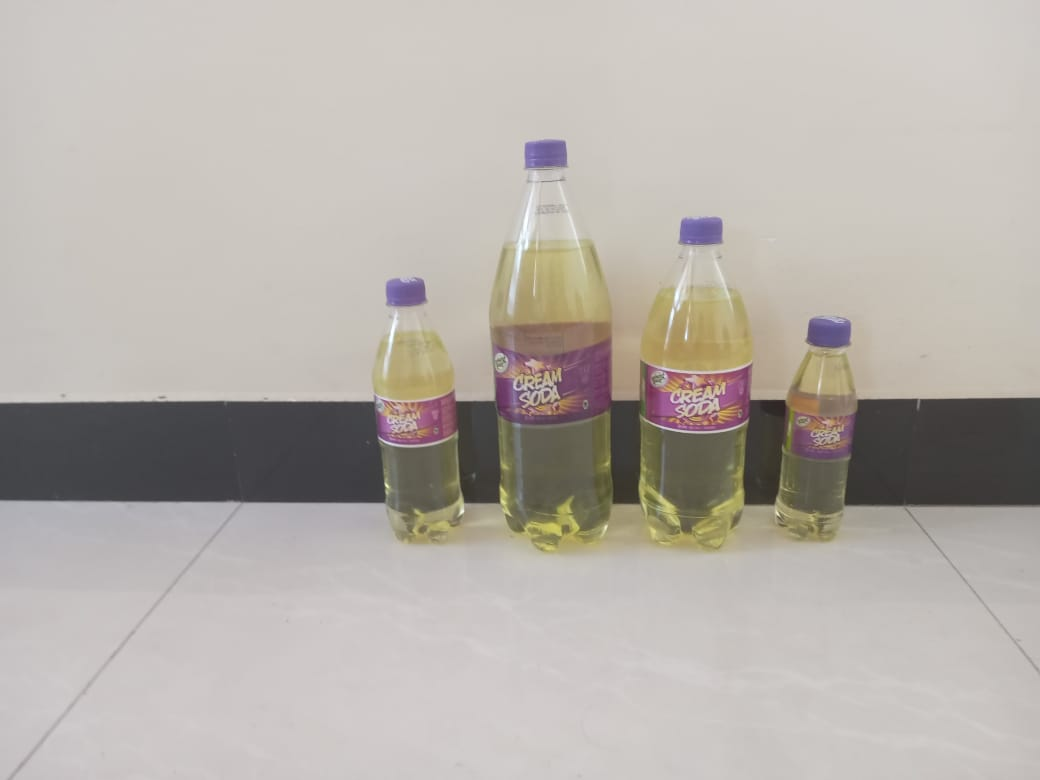L: (486, 142, 616, 552)
M: (636, 214, 752, 550)
S: (367, 278, 467, 541)
Xs: (775, 317, 858, 541)
